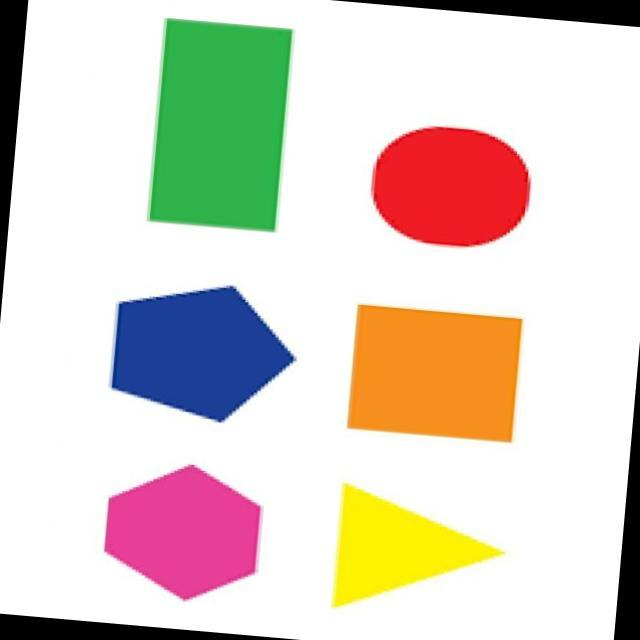circle: (364, 102, 542, 266)
square: (133, 6, 303, 253), (329, 294, 558, 464)
triangle: (314, 468, 528, 620)
